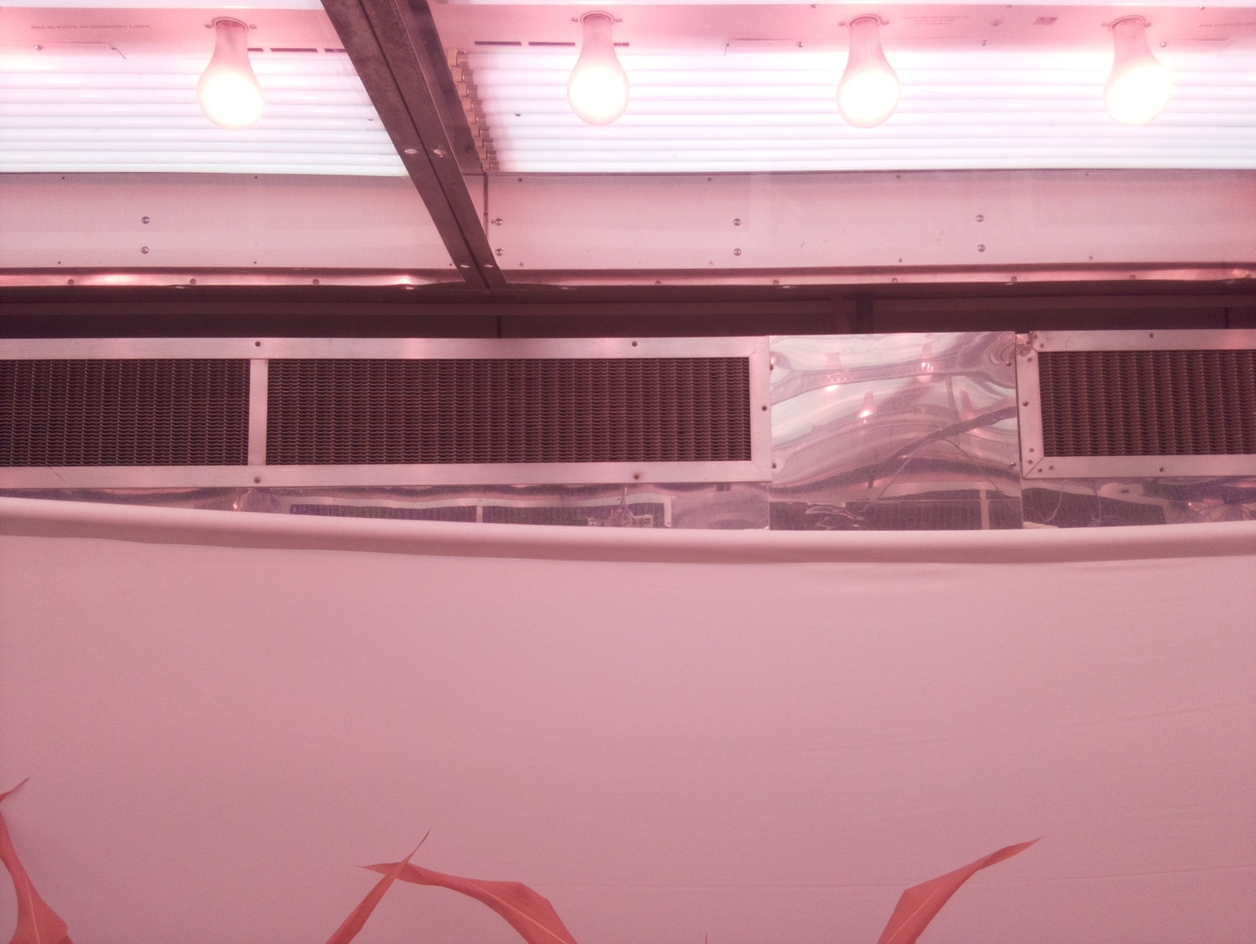maize: (324, 824, 580, 944), (876, 834, 1048, 944), (0, 775, 74, 944)
